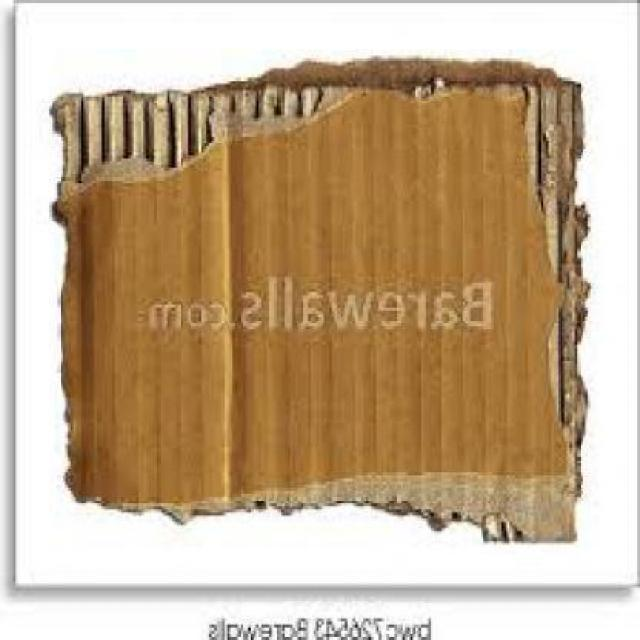box: (52, 57, 591, 541)
